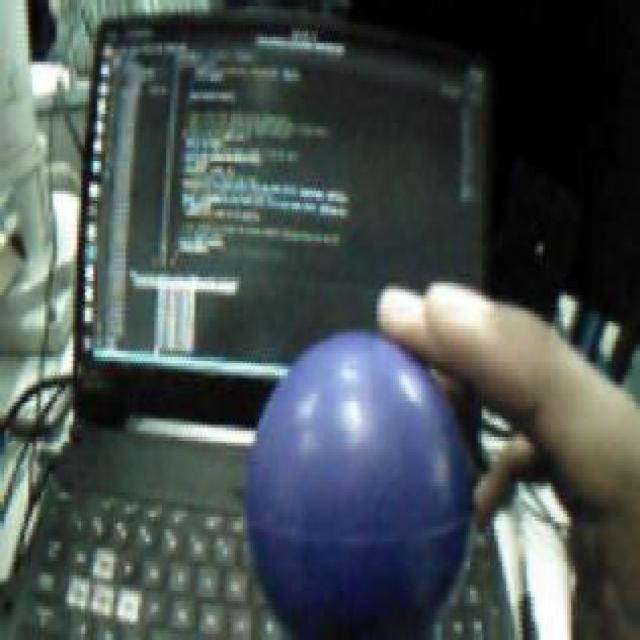BallPurple: (245, 329, 472, 640)
